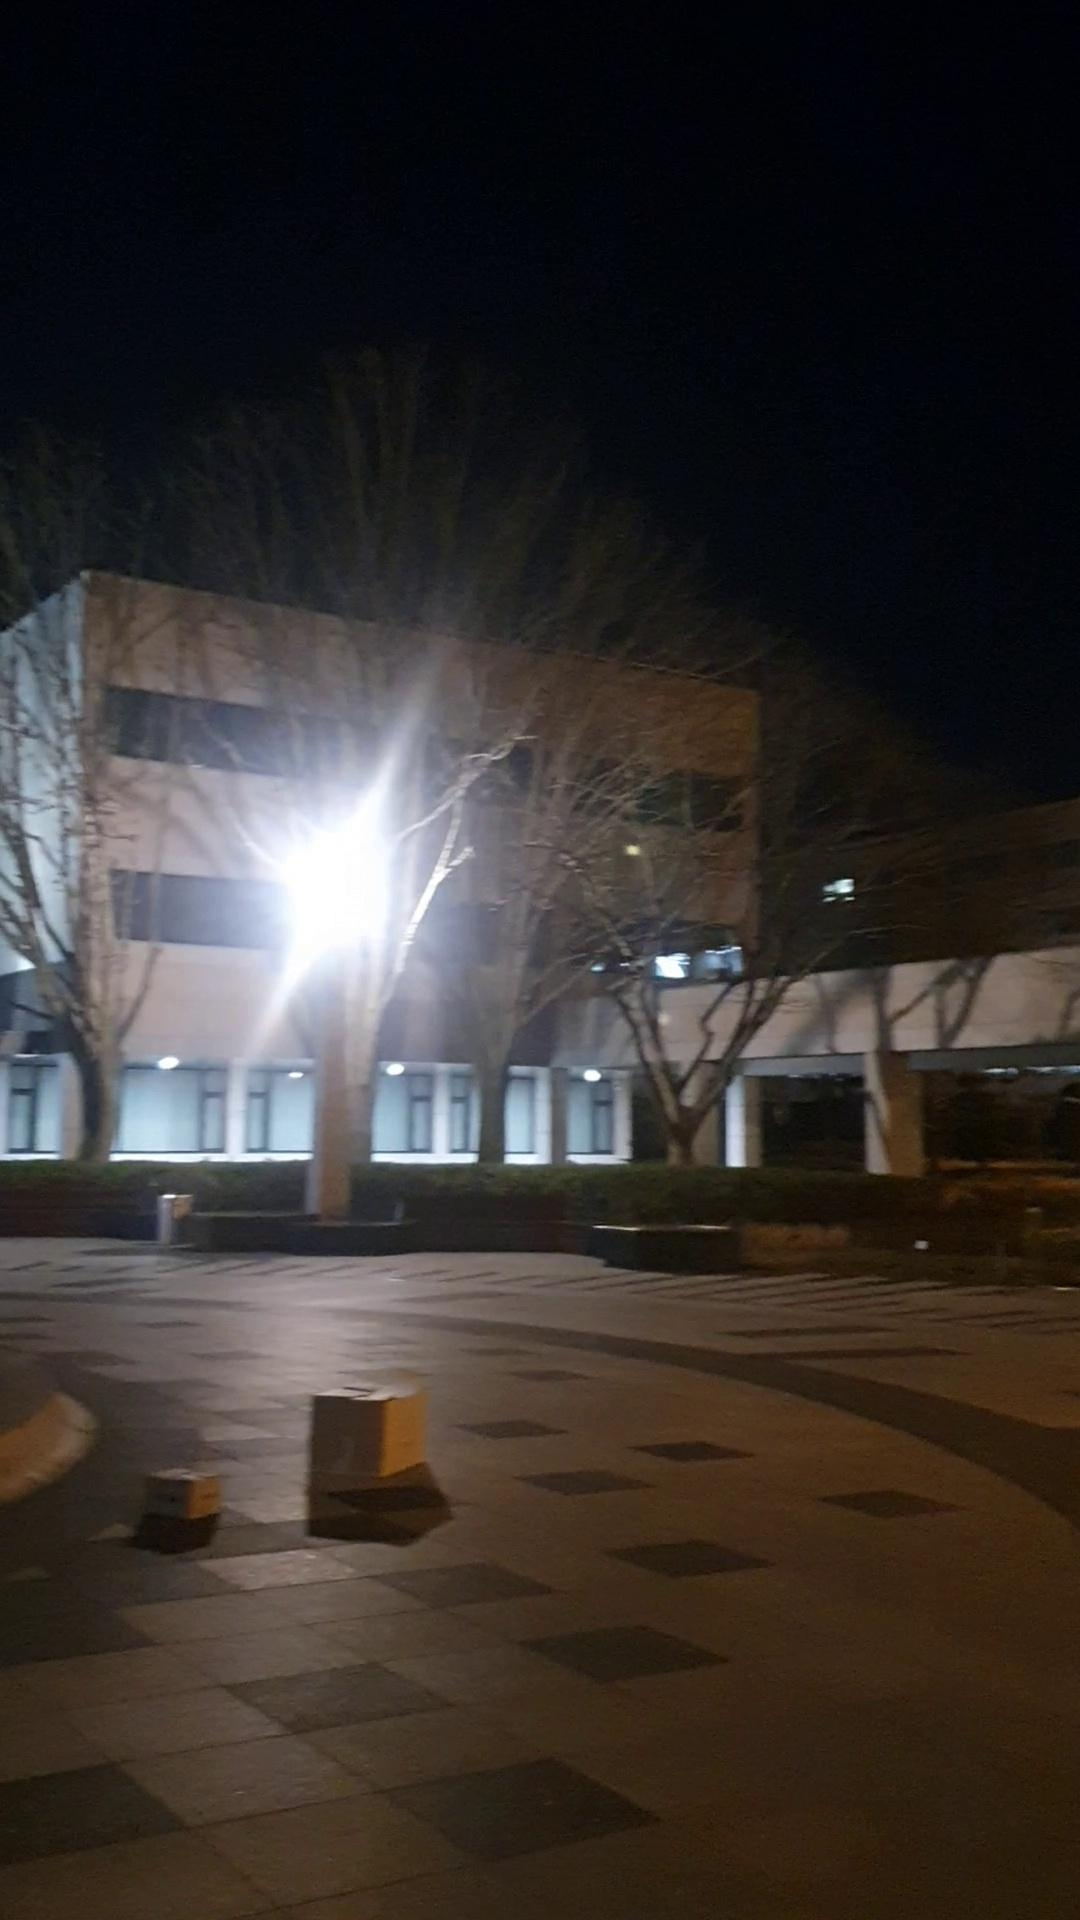Box: (284, 1373, 427, 1495), (131, 1458, 243, 1534)
